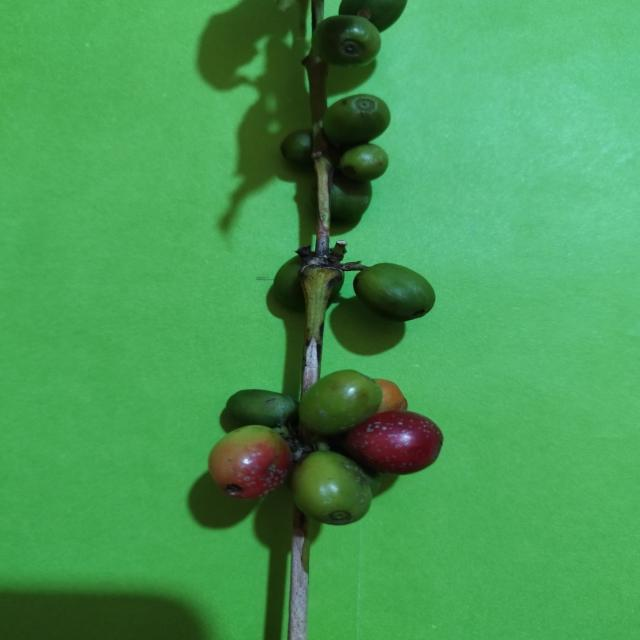Danado: (343, 410, 443, 474), (208, 426, 291, 499)
Infectado: (209, 425, 292, 499)
Sano: (291, 451, 375, 525), (299, 370, 382, 436), (353, 263, 435, 321), (225, 390, 299, 439), (311, 15, 381, 66), (323, 94, 390, 147), (337, 143, 388, 181)
